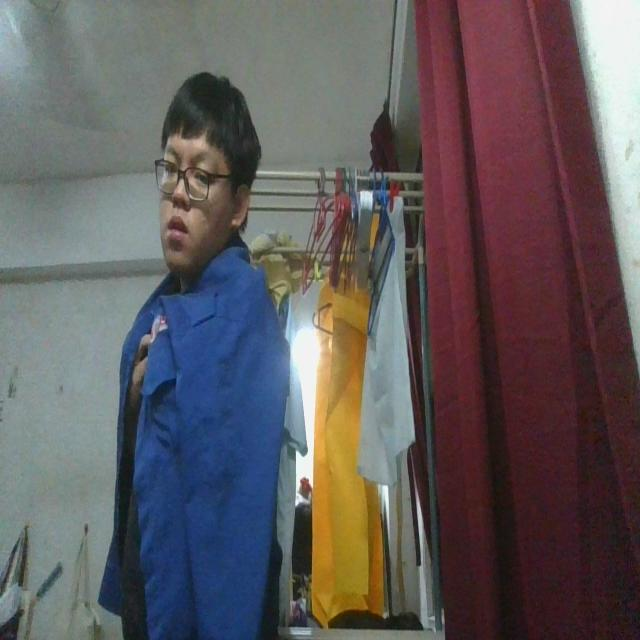person_without_labcoat: (100, 73, 288, 639)
